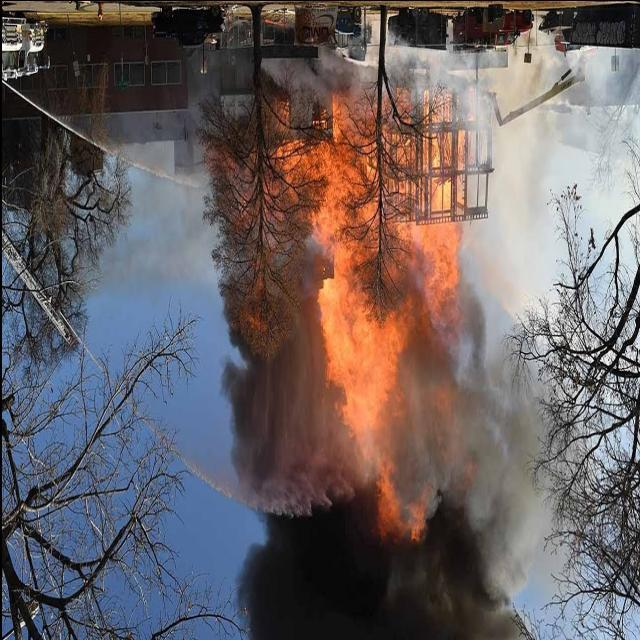Fire: (267, 86, 482, 543)
